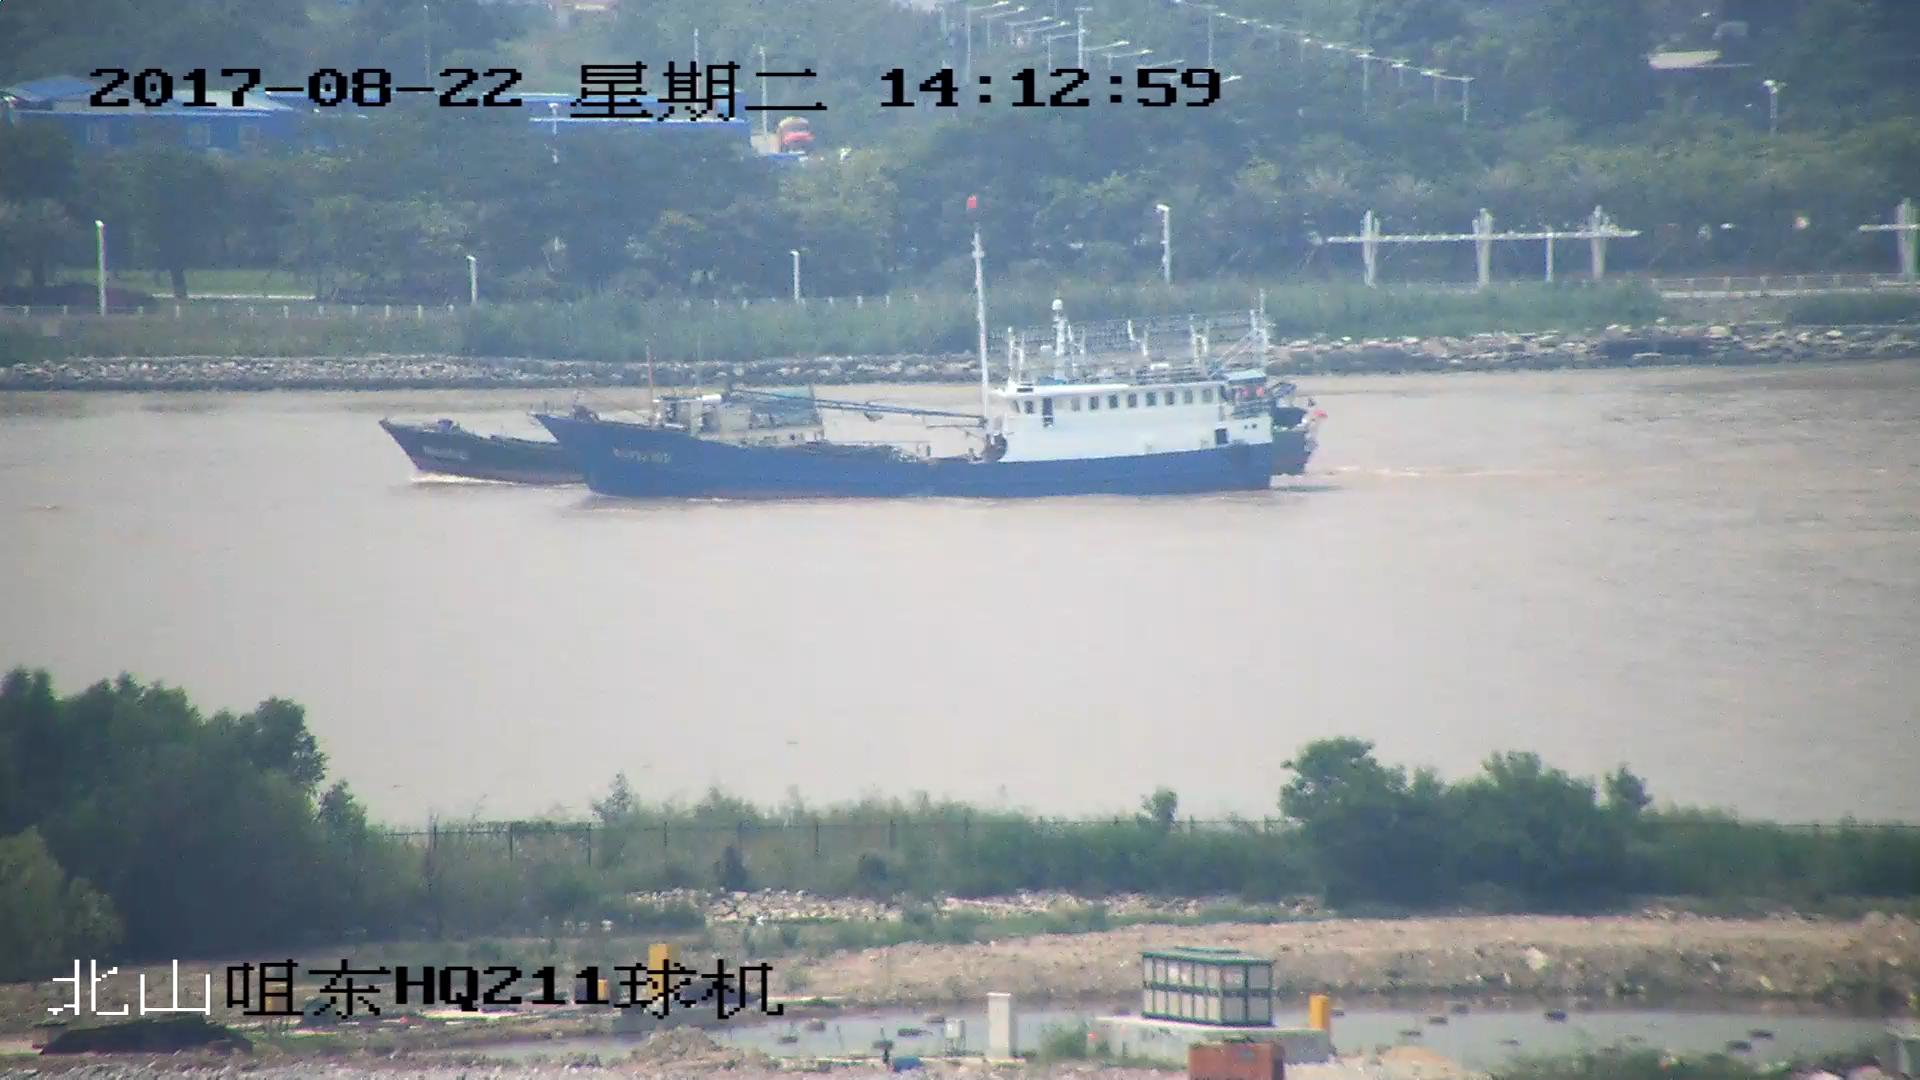fishing boat: (540, 208, 1312, 493), (387, 378, 844, 488)
